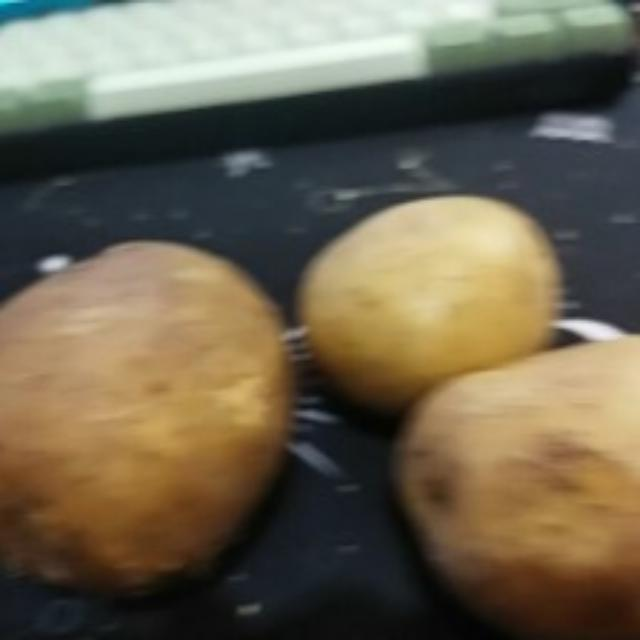Damaged potato: (1, 240, 296, 612), (388, 336, 640, 640)
Potato: (290, 192, 566, 420)
